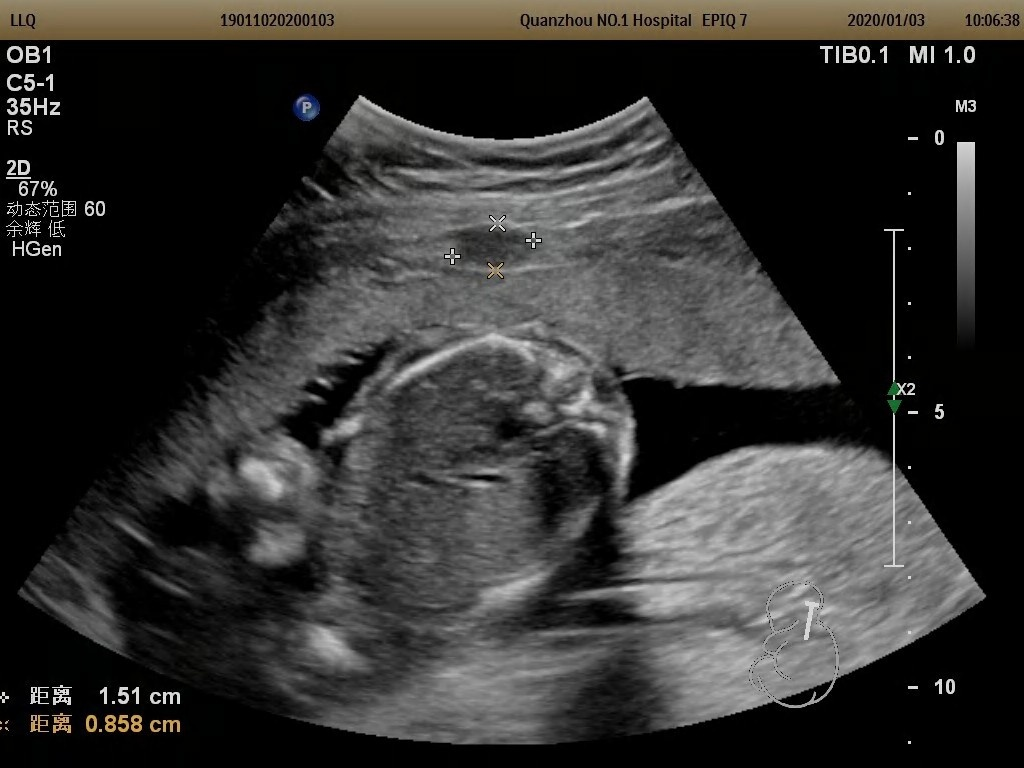肌瘤: (463, 228, 525, 262)
